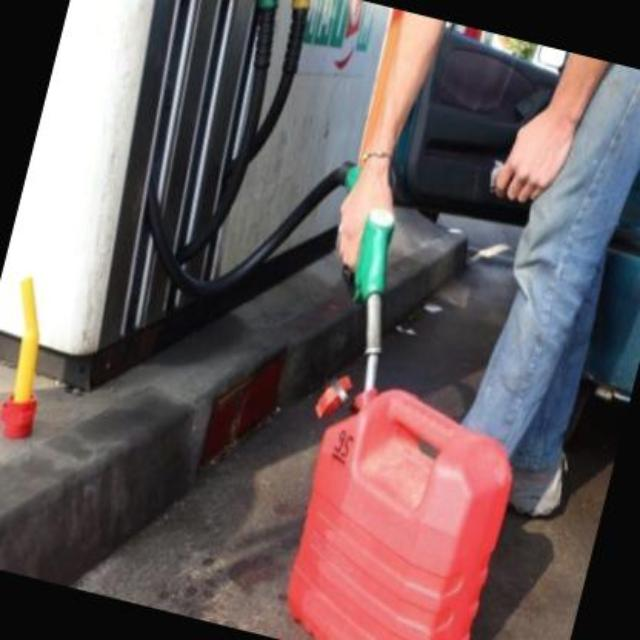chemical_plastic_gallon: (254, 360, 532, 638)
